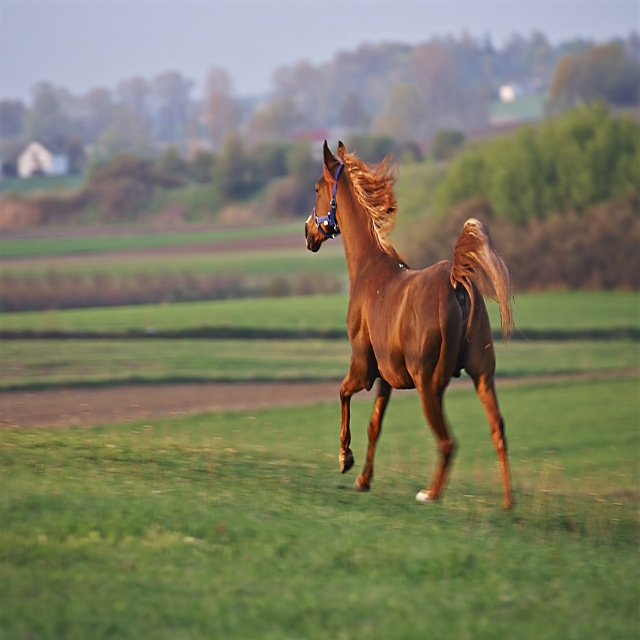Horse: (302, 138, 517, 512)
